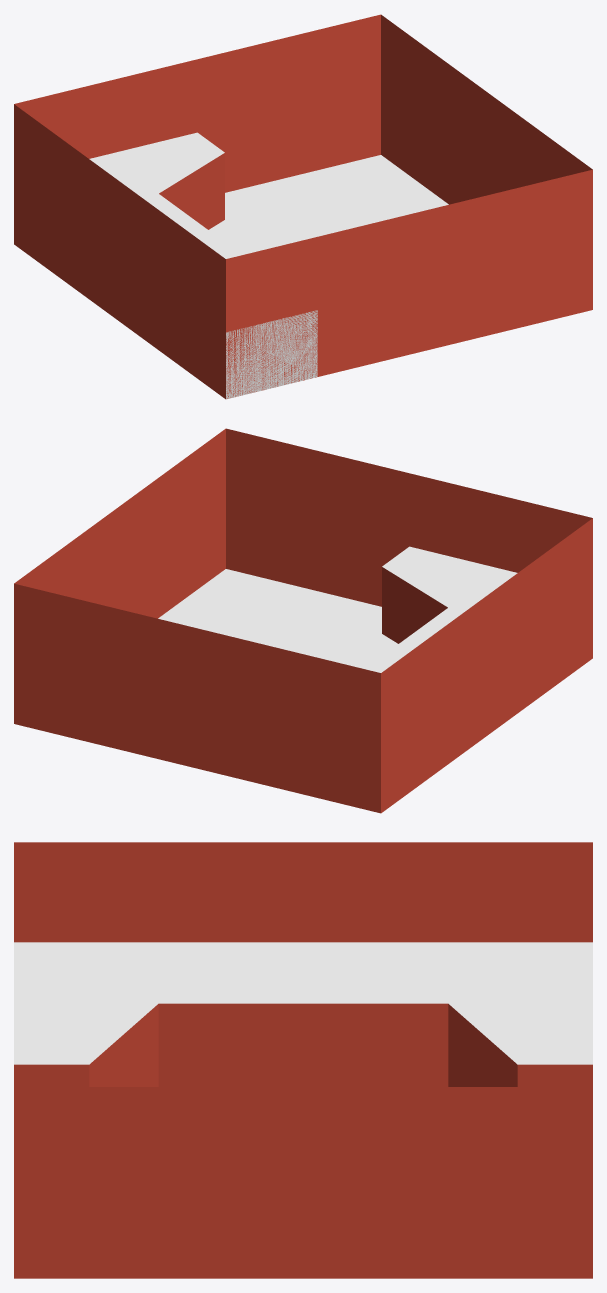
Rendered from room05.fbx.
The picture shows the model from 3 angles, top to bottom: view 1: azimuth 30°, elevation 25°; view 2: azimuth 150°, elevation 25°; view 3: azimuth 270°, elevation 25°; orthographic projection. The views are drawn at different scales.
Parts seen in each view (by area): view 1: 평면.004; view 2: 평면.004; view 3: 평면.004.
Boxes of the visible parts, x1=… form: 평면.004: x1=14, y1=14, x2=592, y2=399; 평면.004: x1=14, y1=428, x2=592, y2=813; 평면.004: x1=14, y1=842, x2=592, y2=1278.
Size of the model in its own units: 40 by 14.61 by 40.
